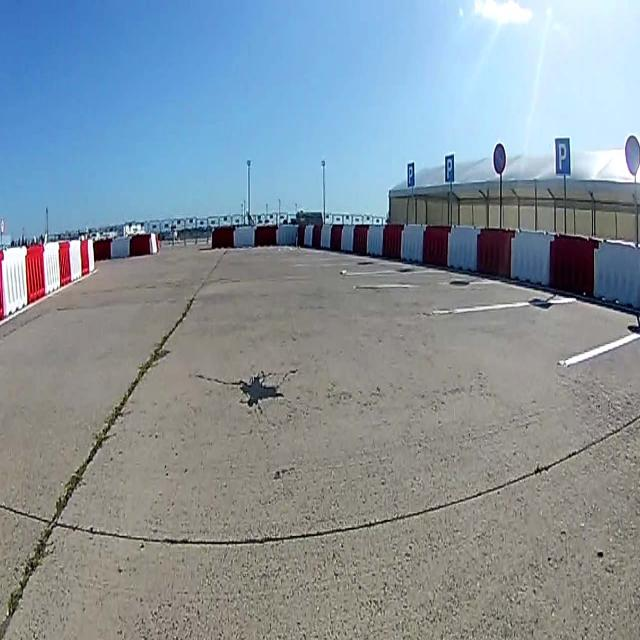park: (555, 136, 570, 176), (443, 155, 455, 182), (407, 162, 415, 189)
parkyasak: (625, 135, 639, 176), (494, 143, 506, 173)
